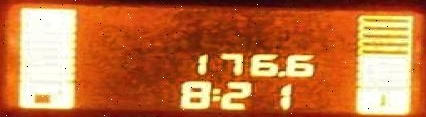-: (276, 70, 284, 75)
1: (276, 83, 291, 111), (193, 52, 208, 75)
2: (217, 80, 251, 109)
6: (248, 53, 278, 76), (284, 53, 312, 76)
7: (217, 52, 241, 75)
8: (177, 80, 211, 109)
X: (209, 88, 219, 101)
